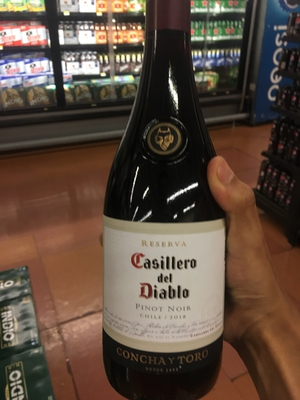casillero del diablo pinot noir: (88, 8, 240, 391)
